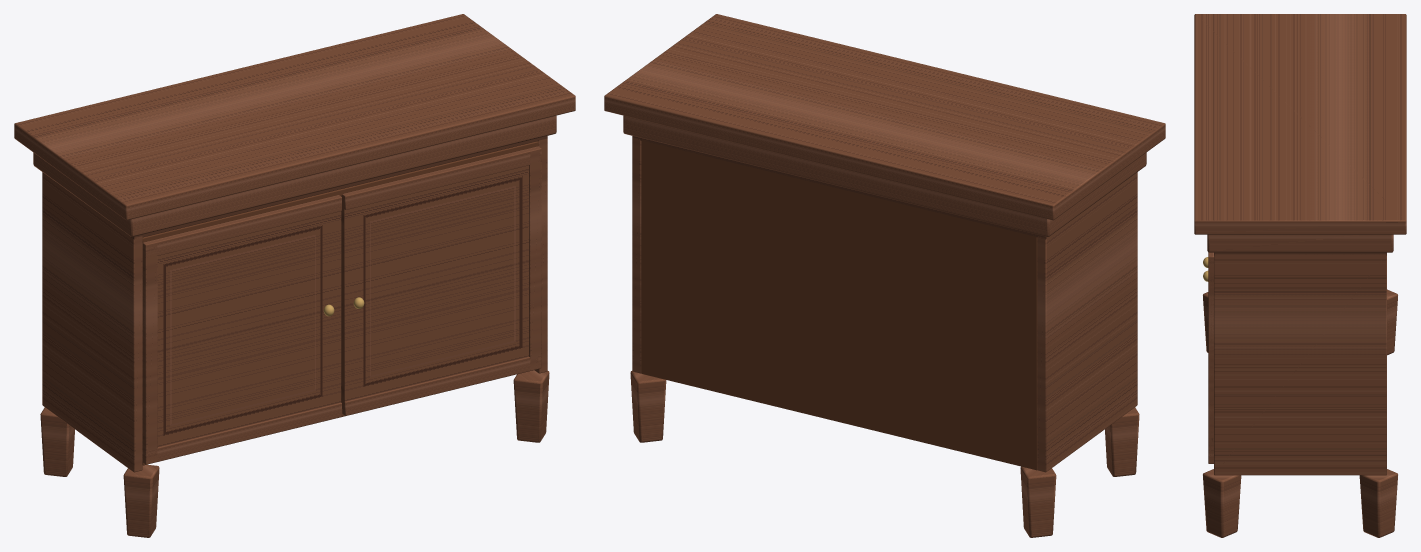
Rendered from BanThoGiaTien.glb.
The picture shows the model from 3 angles, left to right: view 1: azimuth 30°, elevation 25°; view 2: azimuth 150°, elevation 25°; view 3: azimuth 270°, elevation 25°; orthographic projection. The views are drawn at different scales.
Parts seen in each view (by area): view 1: BanThoGiaTien, TuTho_MatTu; view 2: BanThoGiaTien, TuTho_MatTu; view 3: BanThoGiaTien, TuTho_MatTu.
Part boxes in pixels (<box>): BanThoGiaTien: <box>33,115,556,537</box>; TuTho_MatTu: <box>14,14,575,220</box>; BanThoGiaTien: <box>623,115,1146,537</box>; TuTho_MatTu: <box>604,14,1165,220</box>; BanThoGiaTien: <box>1203,234,1397,537</box>; TuTho_MatTu: <box>1194,14,1406,234</box>.
Size of the model in its own units: 1.5 by 1.1 by 0.65.
14 materials, 2 textured.
